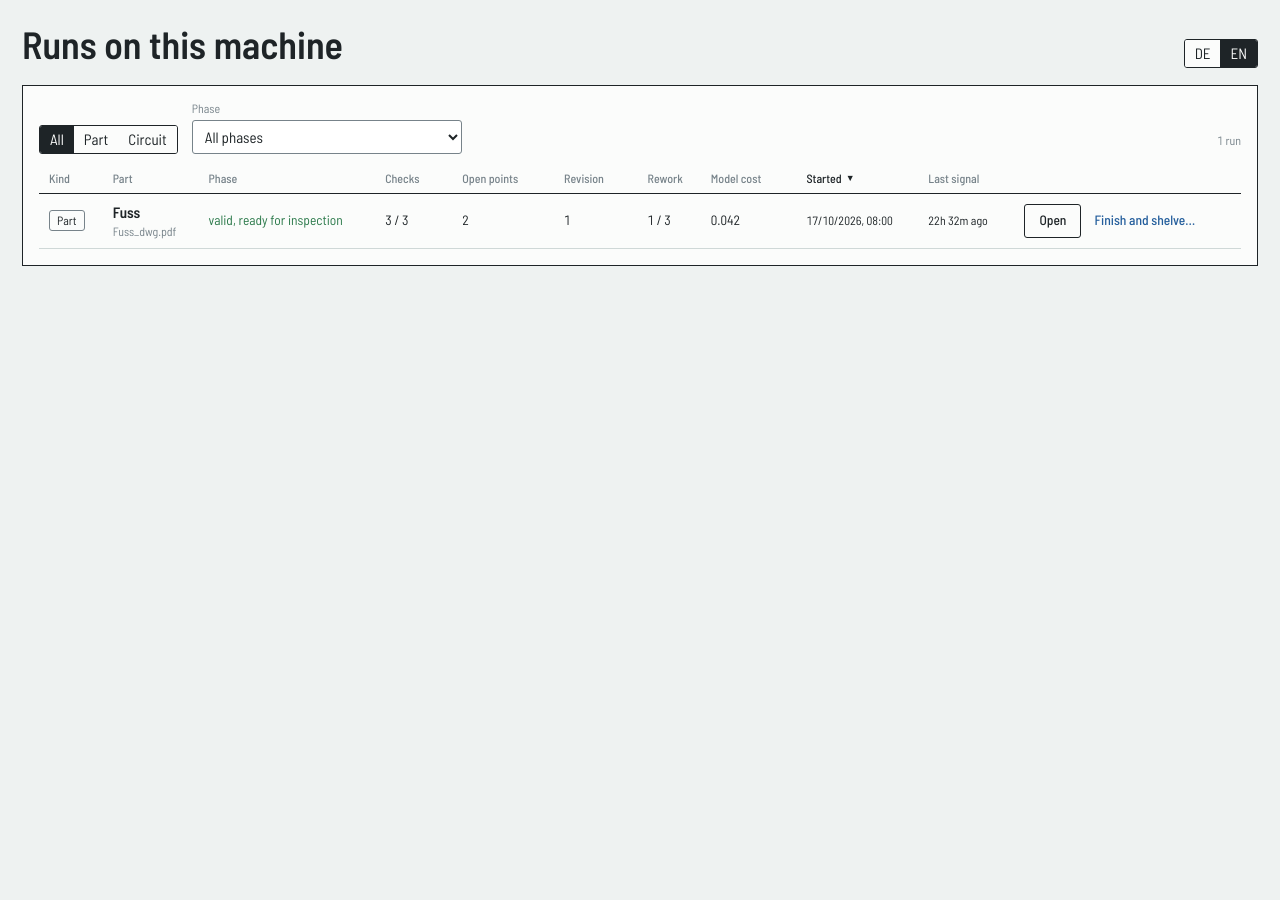
Test: RunTable on the host: finish and shelve (#52) › asks for confirmation, names the session and what happens, then shelves it
The image size is (1280, 900).
What coordinates should you click on to do the following:
click the button with aria-label "Finish and shelve ses-fixture0001"
I would click on:
 (1145, 221)
Its box is [1087,207,1202,235].
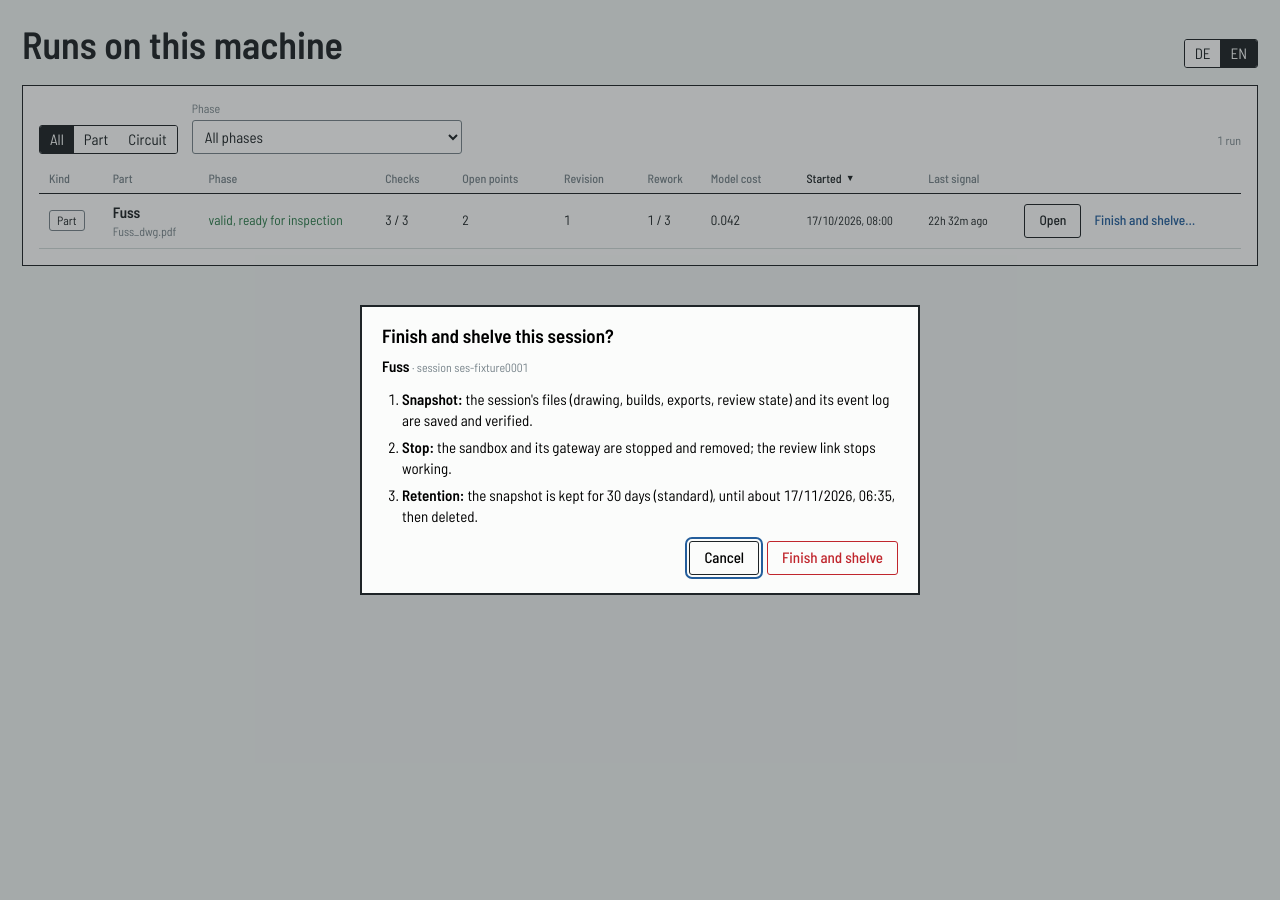
Check: the text "Fuss" is shown, box [382,357,410,375]
Check: the text "· session ses-fixture0001" is shown, box [410,360,528,374]
Check: the list item "event log are saved and verified" is shown, box [402,390,889,429]
What coordinates should you click on to do the following:
click the button "Finish and shelve"
I would click on:
 (832, 558)
Its box is [767,541,898,575].
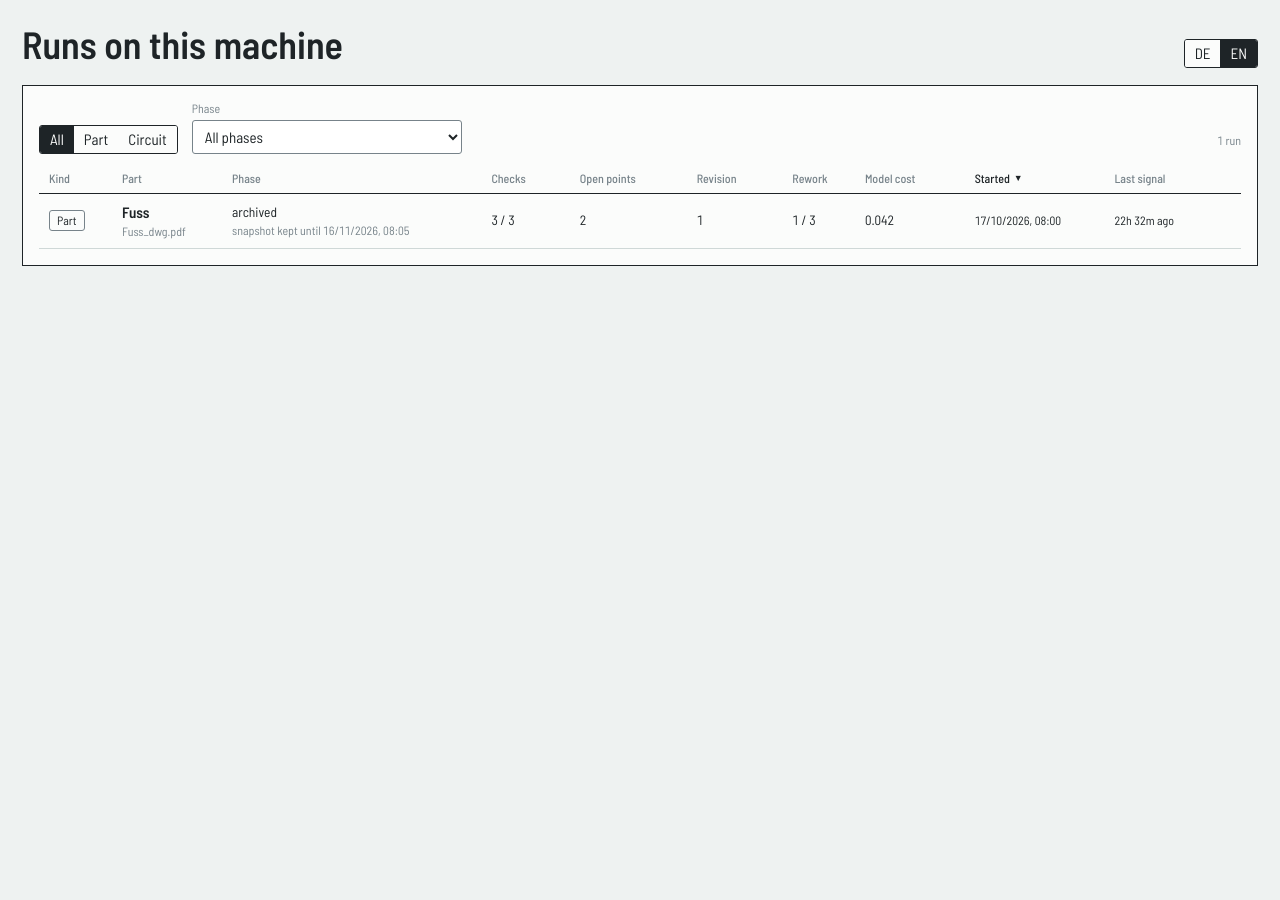
Check: the text "archived" is shown, box [232,203,277,220]
Check: the button "Finish and shelve" is gone
